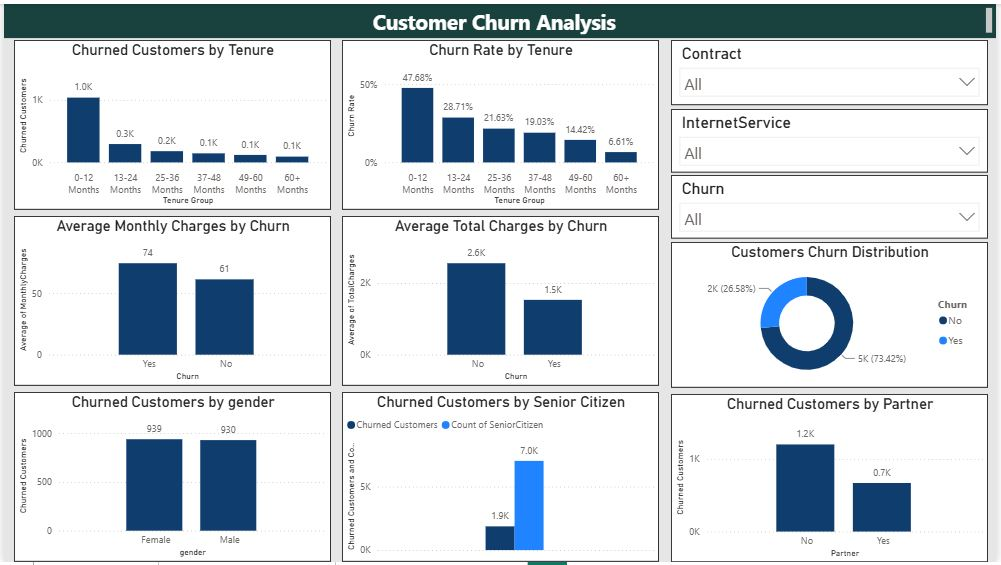

What the dashboard file says about the page in this screenshot:
{"tool":"powerbi","page":{"name":"Customer Churn Analysis ","canvas":[1280,720],"ordinal":1},"visuals":[{"type":"clusteredColumnChart","title":"Churned Customers by Tenure","fields":{"Category":["Telco-Customer-Churn.Tenure Group"],"Y":["Telco-Customer-Churn.Churned Customers"]},"box":[13.2,47,408.5,219],"z":0},{"type":"clusteredColumnChart","title":"Churn Rate by Tenure","fields":{"Category":["Telco-Customer-Churn.Tenure Group"],"Y":["Telco-Customer-Churn.Churn Rate"]},"box":[436.5,47,408.5,219],"z":1},{"type":"clusteredColumnChart","title":"Average Monthly Charges by Churn","fields":{"Category":["Telco-Customer-Churn.Churn"],"Y":["Avg(Telco-Customer-Churn.MonthlyCharges)"]},"box":[13.2,273.3,408.5,219],"z":2},{"type":"clusteredColumnChart","title":"Average Total Charges by Churn","fields":{"Category":["Telco-Customer-Churn.Churn"],"Y":["Avg(Telco-Customer-Churn.TotalCharges)"]},"box":[436.5,273.3,408.5,219],"z":3},{"type":"clusteredColumnChart","fields":{"Category":["Telco-Customer-Churn.gender"],"Y":["Telco-Customer-Churn.Churned Customers"]},"box":[13.2,501.1,408.5,219],"z":4},{"type":"clusteredColumnChart","title":"Churned Customers by Senior Citizen","fields":{"Y":["Telco-Customer-Churn.Churned Customers","CountNonNull(Telco-Customer-Churn.SeniorCitizen)"]},"box":[436.5,501.1,408.5,219],"z":5},{"type":"clusteredColumnChart","fields":{"Category":["Telco-Customer-Churn.Partner"],"Y":["Telco-Customer-Churn.Churned Customers"]},"box":[861.2,502.6,408.5,217.5],"z":6},{"type":"slicer","fields":{"Values":["Telco-Customer-Churn.Contract"]},"box":[861.2,47,408.5,83.8],"z":7},{"type":"slicer","fields":{"Values":["Telco-Customer-Churn.Churn"]},"box":[861.2,220.4,408.5,82.3],"z":8},{"type":"slicer","fields":{"Values":["Telco-Customer-Churn.InternetService"]},"box":[861.2,135.2,408.5,82.3],"z":9},{"type":"donutChart","title":"Customers Churn Distribution","fields":{"Category":["Telco-Customer-Churn.Churn"],"Y":["Telco-Customer-Churn.Total Customers"]},"box":[861.2,307.1,408.5,188.1],"z":10},{"type":"textbox","box":[0,0,1280,44.1],"z":11}]}

Visuals, with their boxes in screenshot pixels (x1, y1, x2, y2), scaled from the page's 1280x720 canvas onto the 1001x565 screenshot:
"Churned Customers by Tenure" clusteredColumnChart: Rect(10, 37, 330, 209)
"Churn Rate by Tenure" clusteredColumnChart: Rect(341, 37, 661, 209)
"Average Monthly Charges by Churn" clusteredColumnChart: Rect(10, 214, 330, 386)
"Average Total Charges by Churn" clusteredColumnChart: Rect(341, 214, 661, 386)
clusteredColumnChart - Telco-Customer-Churn.gender x Telco-Customer-Churn.Churned Customers: Rect(10, 393, 330, 564)
"Churned Customers by Senior Citizen" clusteredColumnChart: Rect(341, 393, 661, 564)
clusteredColumnChart - Telco-Customer-Churn.Partner x Telco-Customer-Churn.Churned Customers: Rect(673, 394, 993, 564)
slicer - Telco-Customer-Churn.Contract: Rect(673, 37, 993, 103)
slicer - Telco-Customer-Churn.Churn: Rect(673, 173, 993, 238)
slicer - Telco-Customer-Churn.InternetService: Rect(673, 106, 993, 171)
"Customers Churn Distribution" donutChart: Rect(673, 241, 993, 389)
textbox: Rect(0, 0, 1000, 35)
